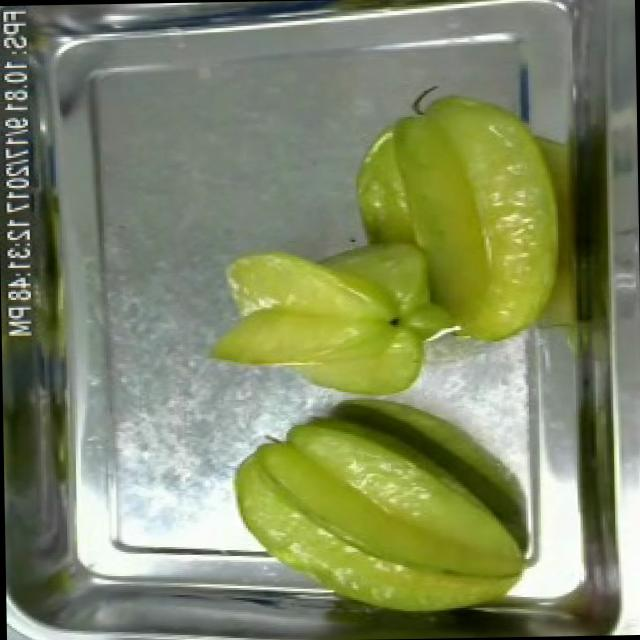fruit: (223, 406, 542, 630), (341, 80, 578, 353), (202, 230, 438, 410)
